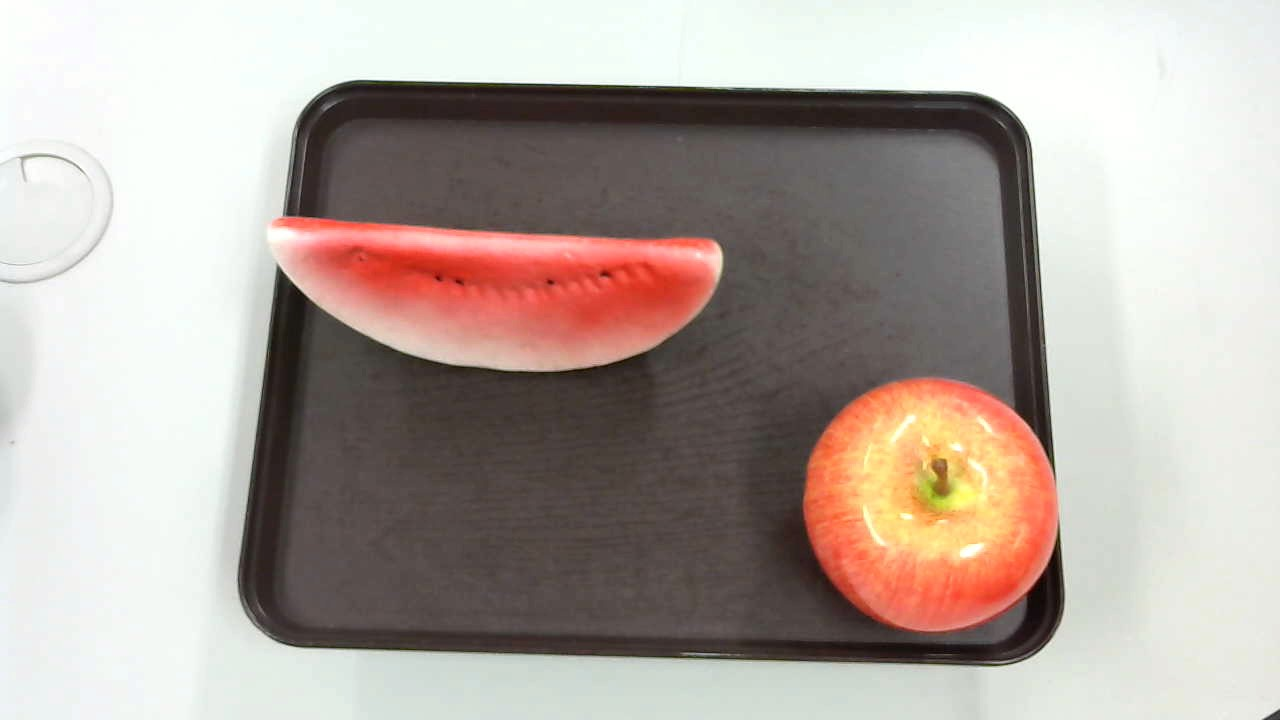red apple: (804, 376, 1060, 637)
water melon: (260, 202, 740, 380)
